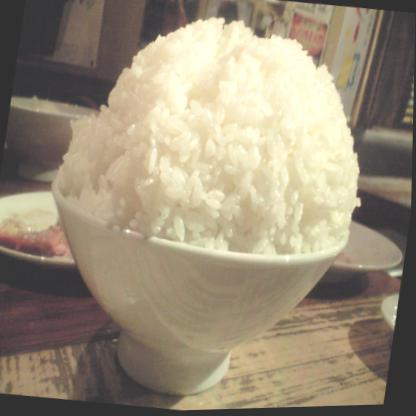rice ball: (28, 8, 380, 409)
